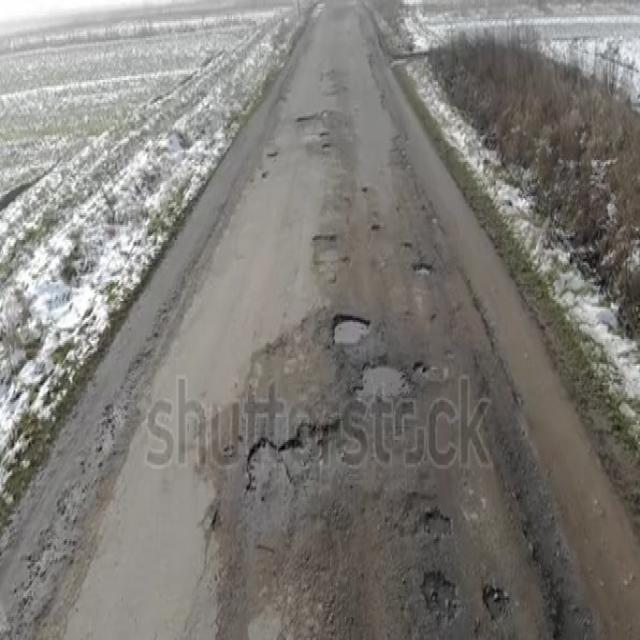pothole: (244, 419, 344, 523), (311, 231, 351, 283), (421, 570, 458, 624), (356, 366, 409, 399), (400, 243, 433, 277), (482, 583, 509, 620), (334, 318, 370, 345), (369, 222, 388, 269), (424, 508, 451, 538), (412, 359, 431, 380)
